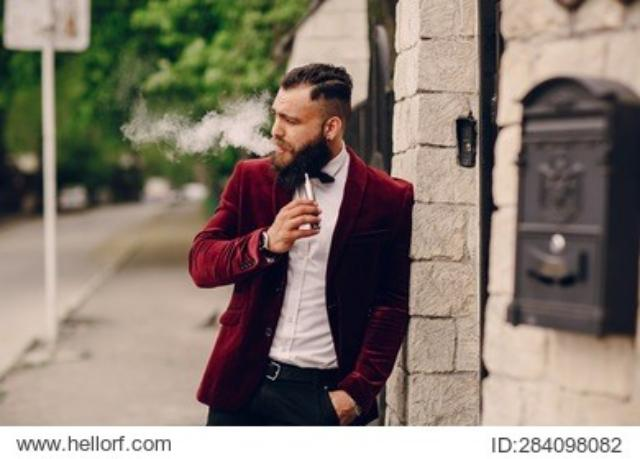Cigarette: (295, 164, 331, 234)
